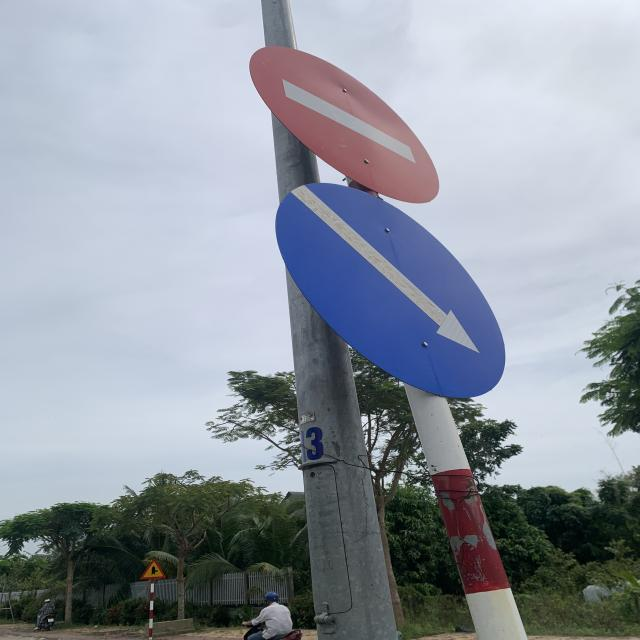Cam_Di_Nguoc_Chieu: (247, 42, 444, 203)
Chi_Huong_Di_Phai: (272, 182, 504, 398)
